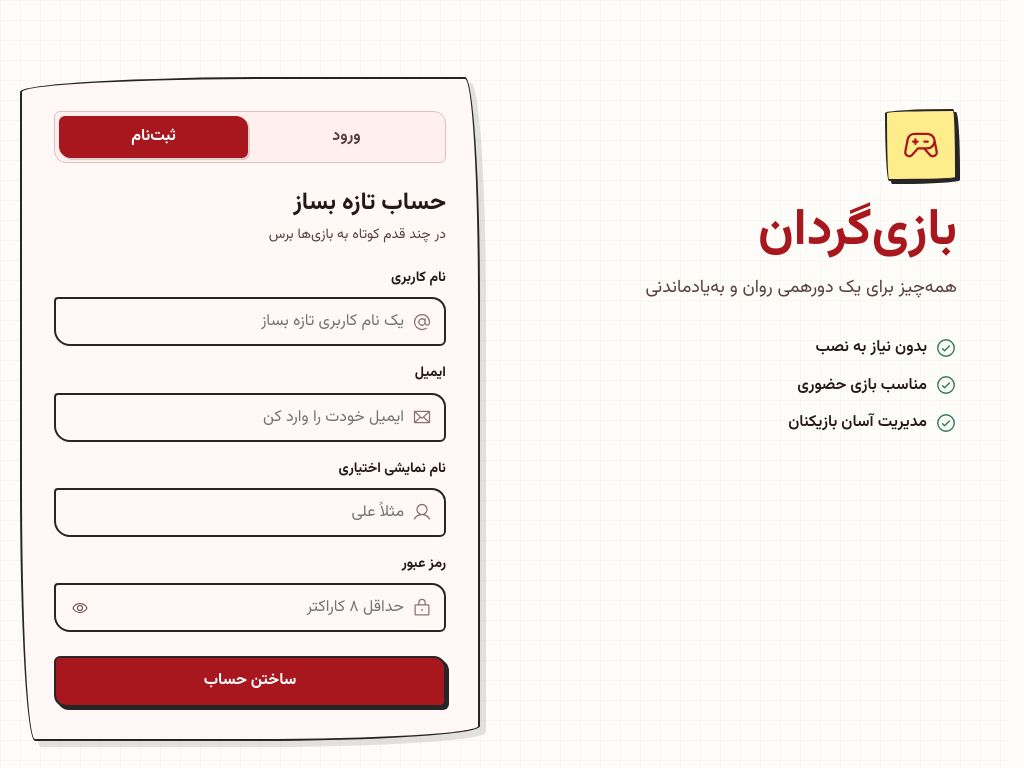
Test: AuthPage - register mode › shows a field-level backend error for a duplicate username
Type "taken_username" into the field labelled "نام کاربری" at [236, 322], box x1=68 y1=299 x2=404 y2=344
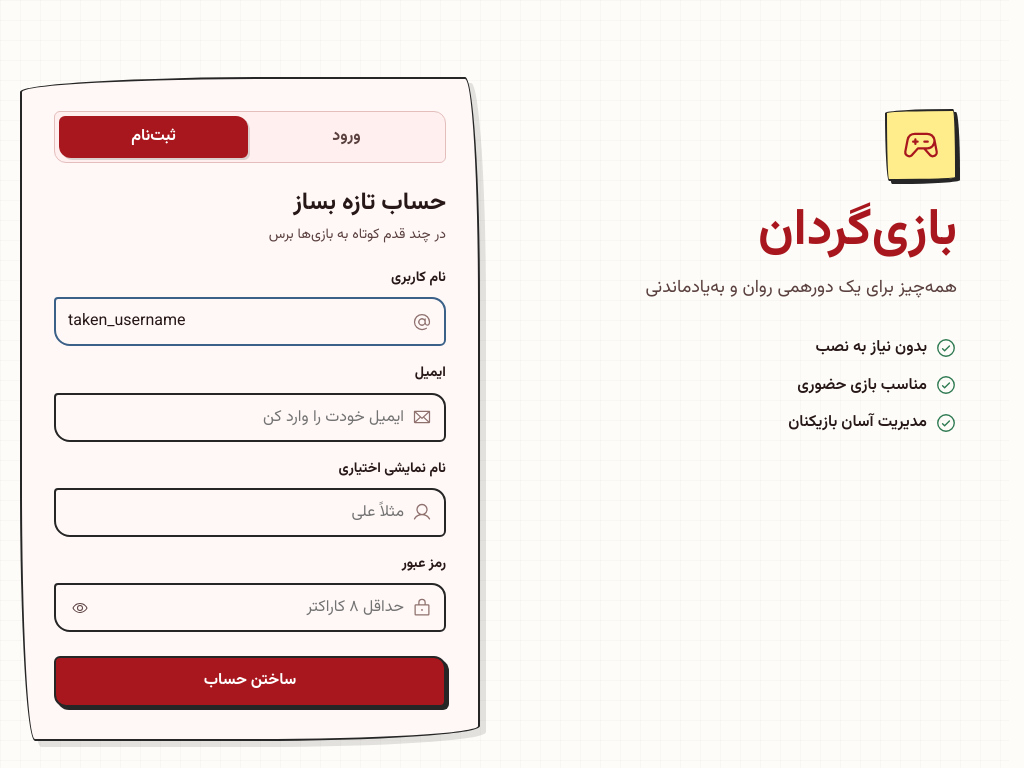
Type "x@x.com" into the field labelled "ایمیل" at [236, 417], box x1=68 y1=395 x2=404 y2=440
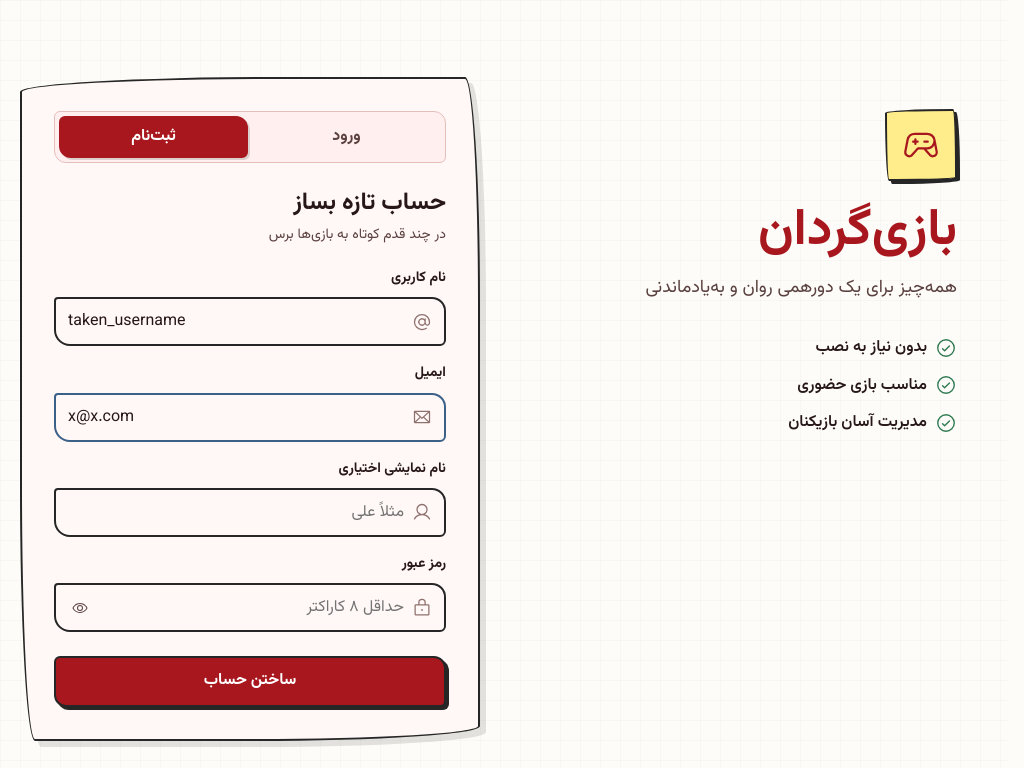
Type "somepassword1" into the password field labelled "رمز عبور" at [257, 608], box x1=110 y1=585 x2=404 y2=630
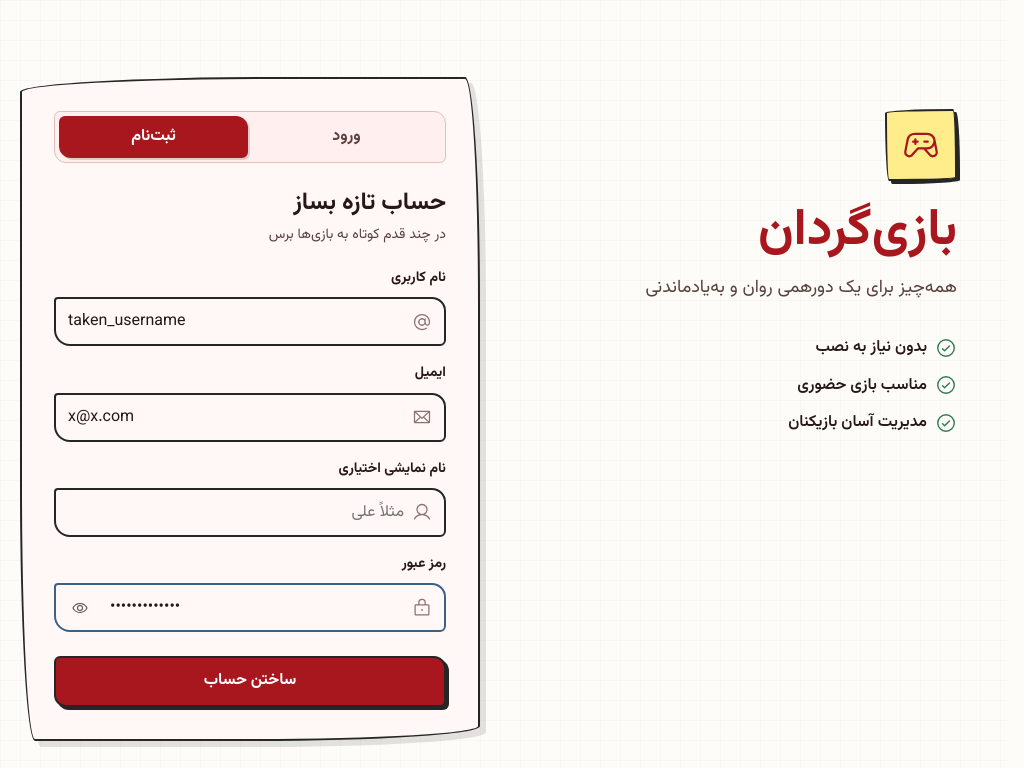
Click the button "ساختن حساب" at [250, 682], box x1=54 y1=656 x2=446 y2=707
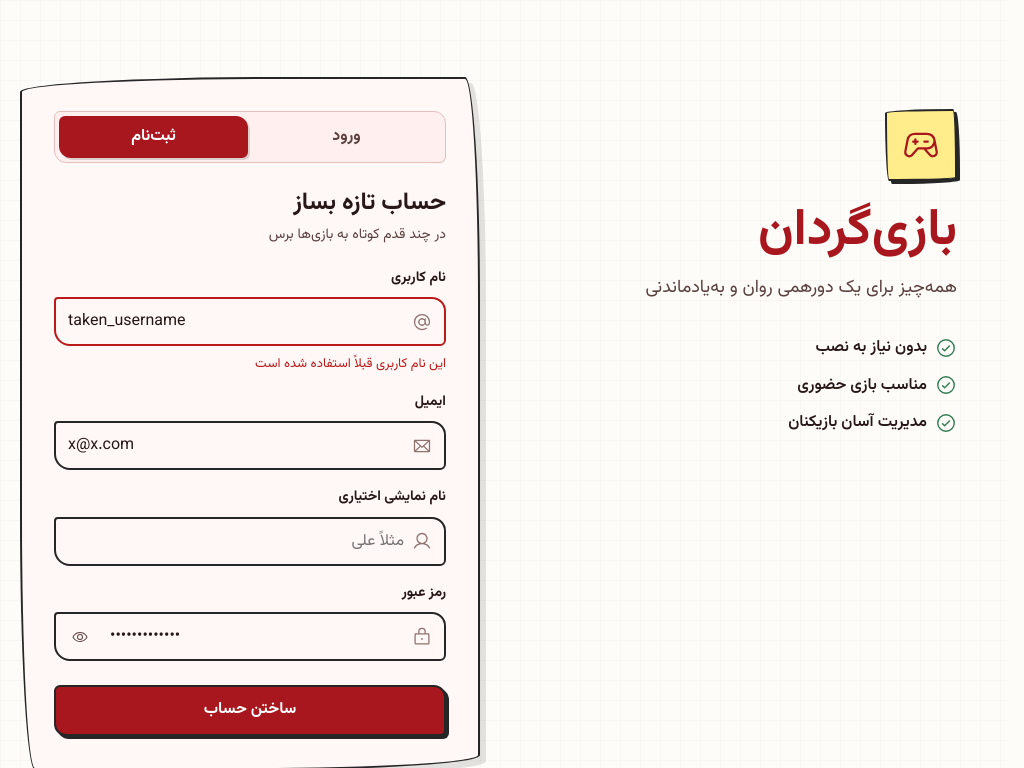
Check: the text "این نام کاربری قبلاً استفاده شده است" is shown, box x1=255 y1=354 x2=446 y2=374
